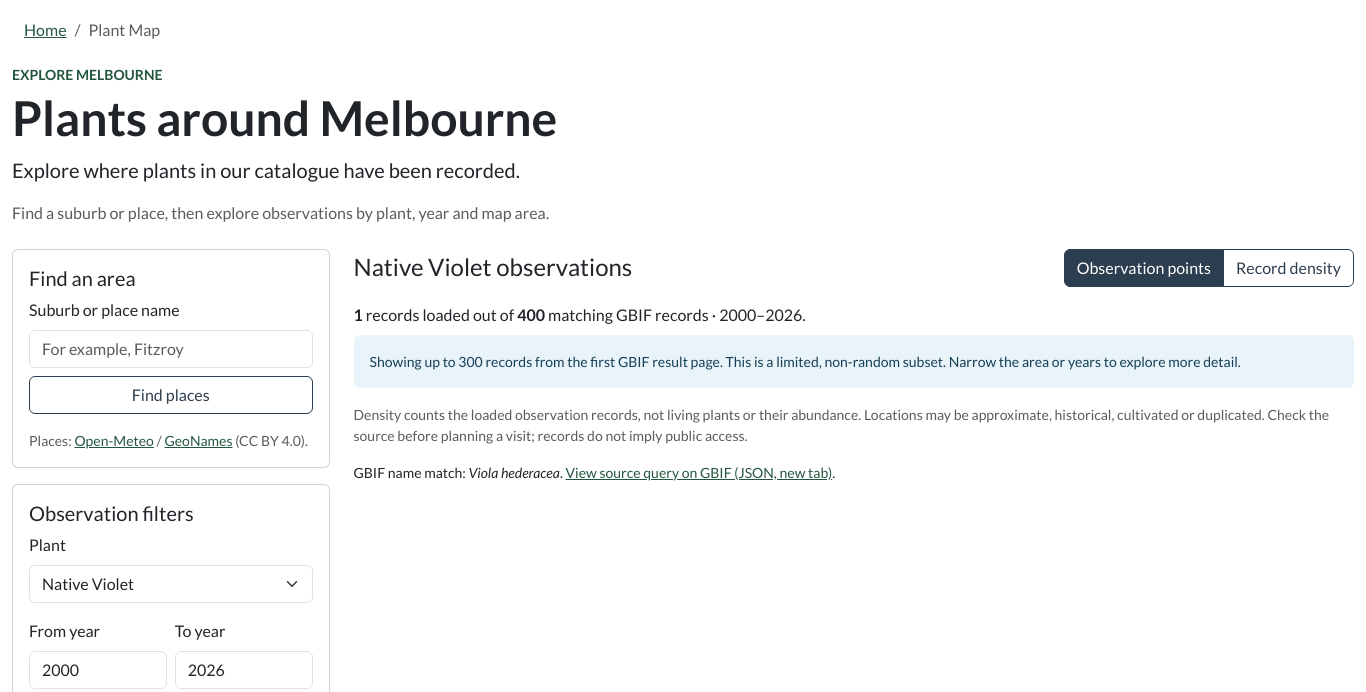
Test: plant map workflows › queries the current viewport with selected years, and provides a density table
Replace the text in the number field with id "map-from" with "2020". click: (98, 670)
box: [29,651,167,689]
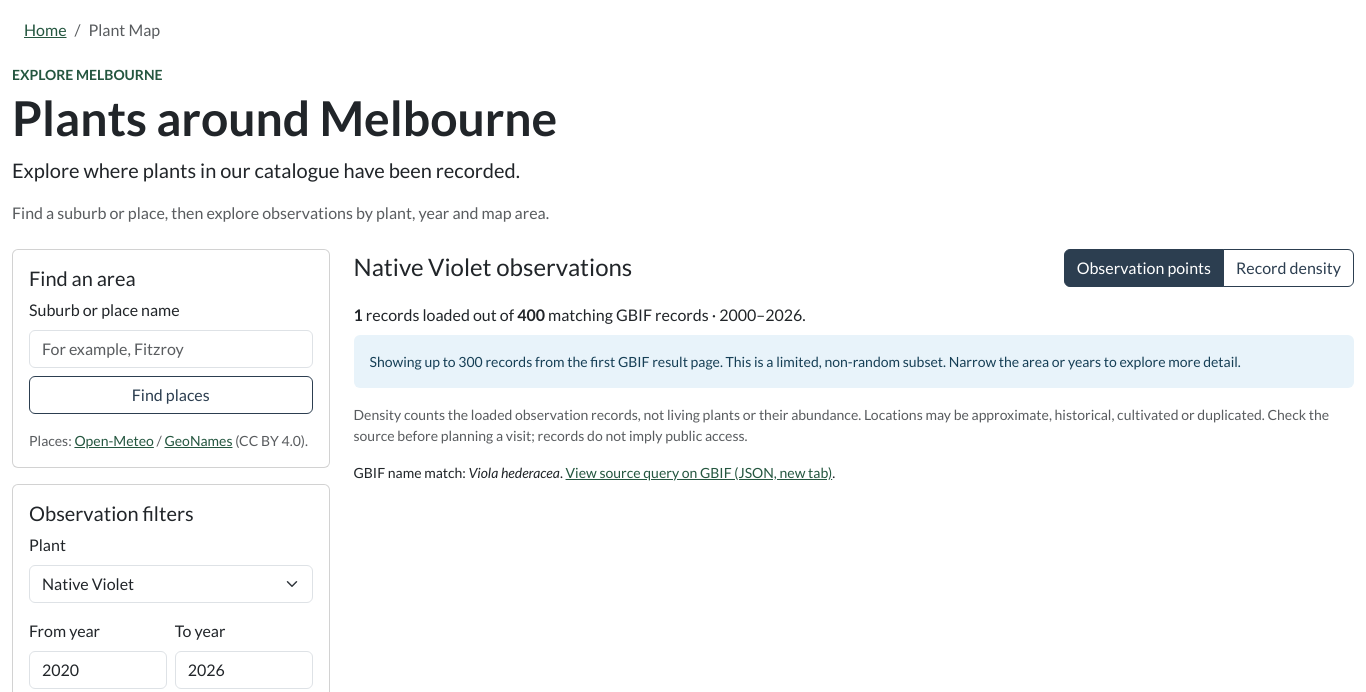
Replace the text in the number field with id "map-to" with "2024". click: (244, 670)
box: [175,651,313,689]
(page scrolled)
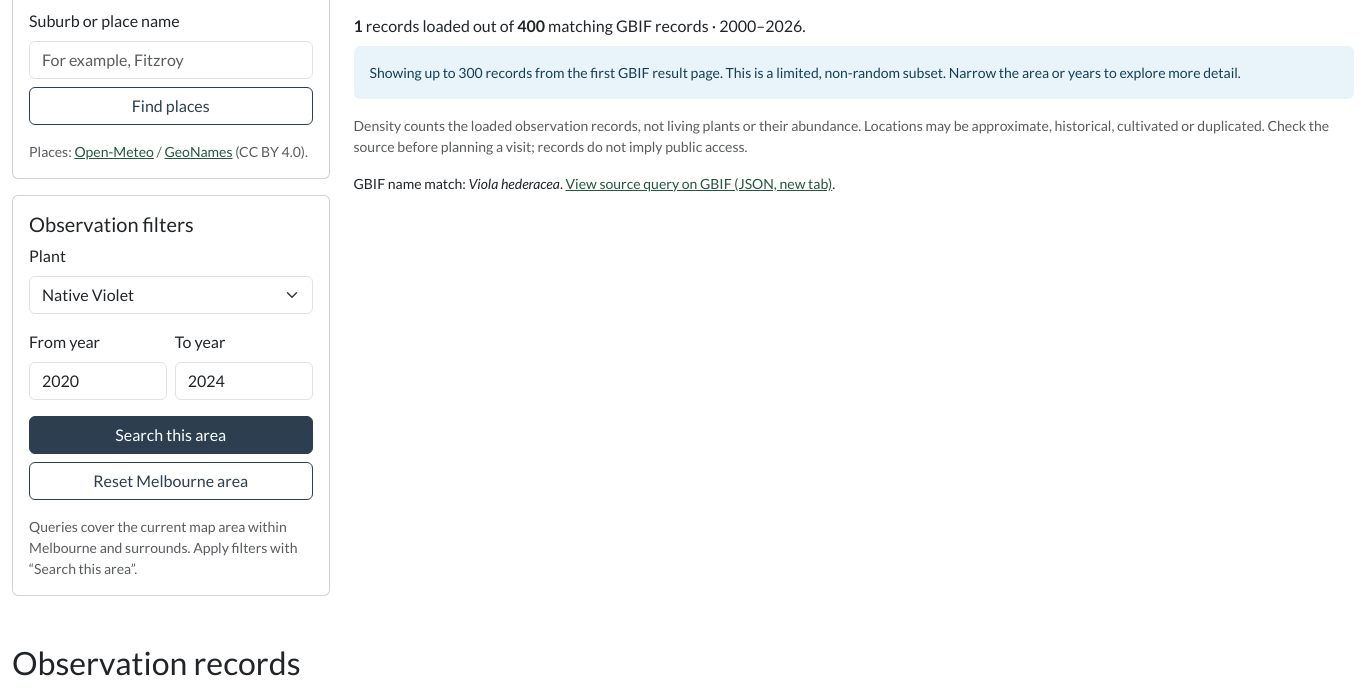
Submit the form "Plant From year To year Search this area", box [29,244,312,454]
(page scrolled)
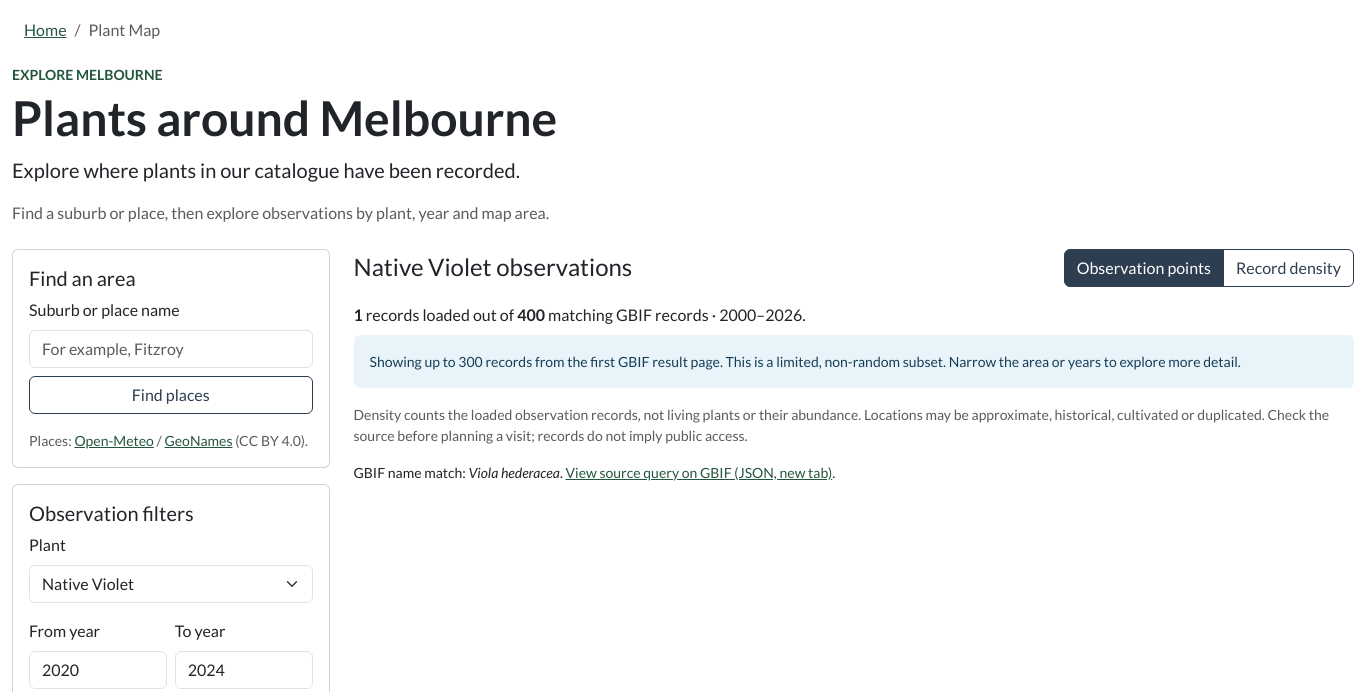
Click the button "Record density". click: (1288, 268)
box: [1223,249,1354,287]
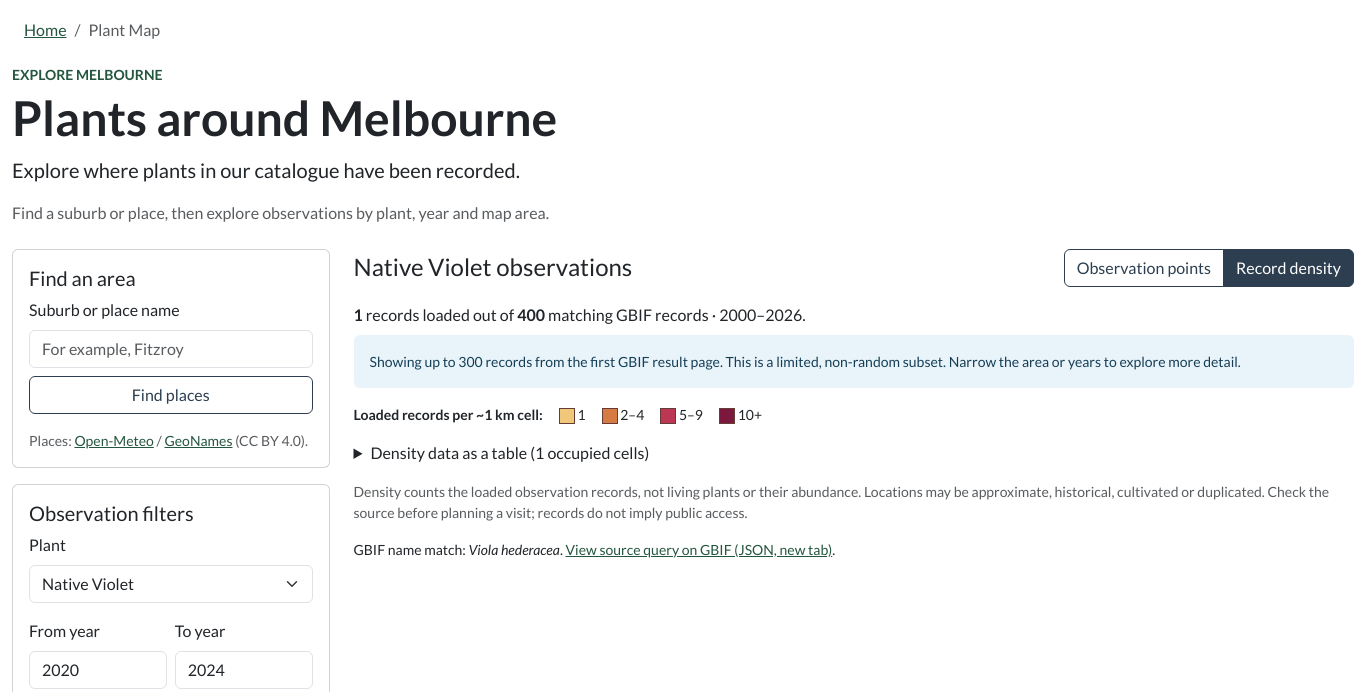
Expected: the text "Density data as a table" is shown, [370,443,649,462]
